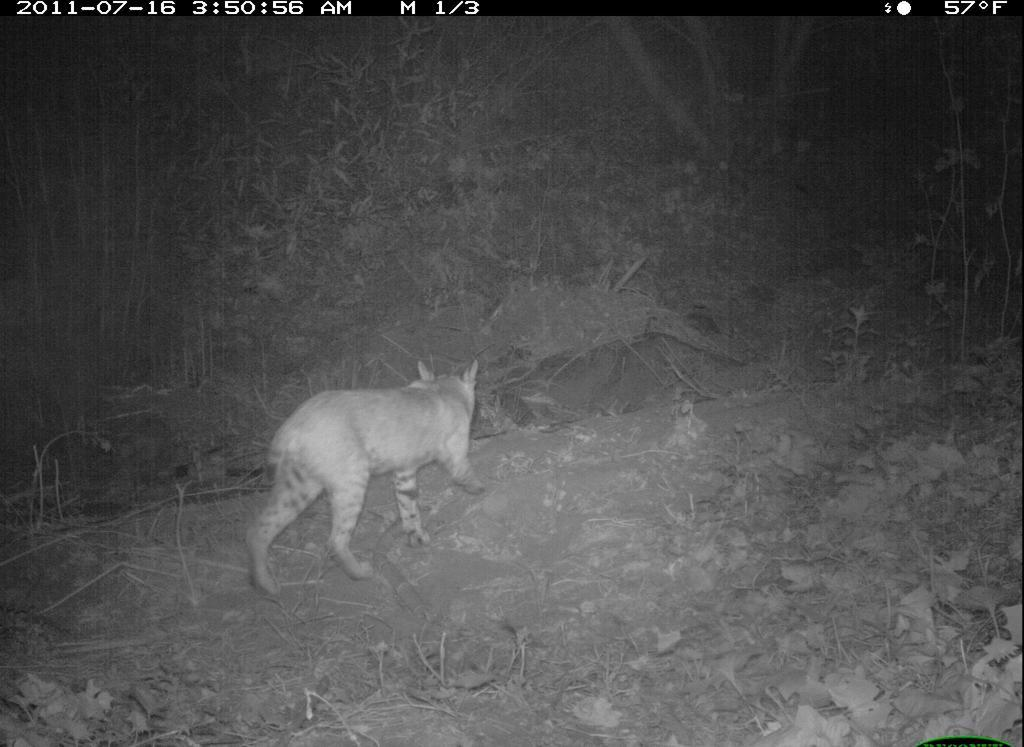bobcat: (230, 355, 496, 606)
